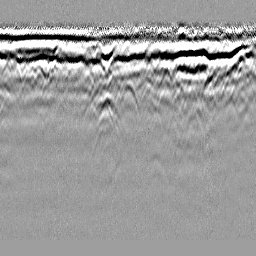cavity: (116, 78, 141, 114)
